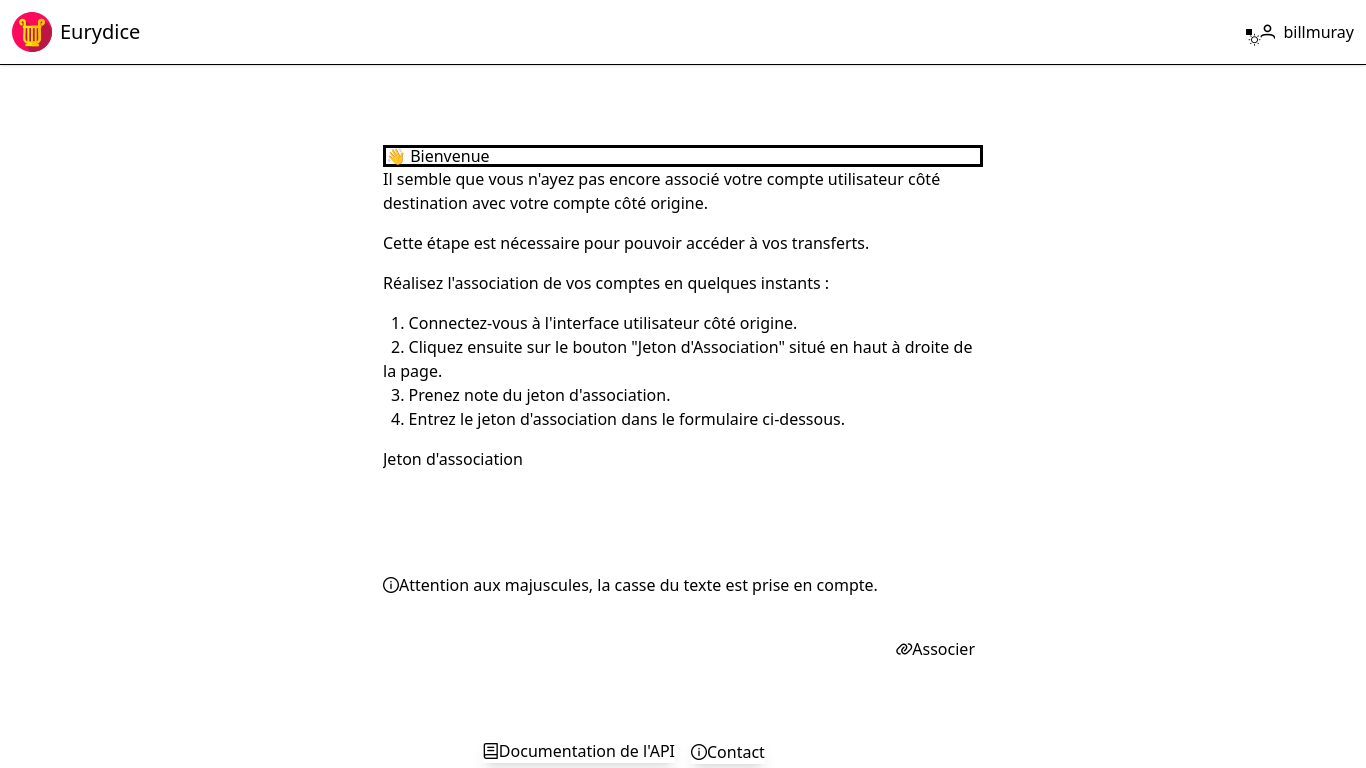
Test case: Main View Origin › Shows success message when sent token is correct but user is already connected
The image size is (1366, 768).
In the text box with test id "TokenTextArea": (683, 507) x1=383 y1=447 x2=983 y2=567, type "un 2 3 4 5 6 7 8 9 10 11 12 13 14 15 16 17 fin"
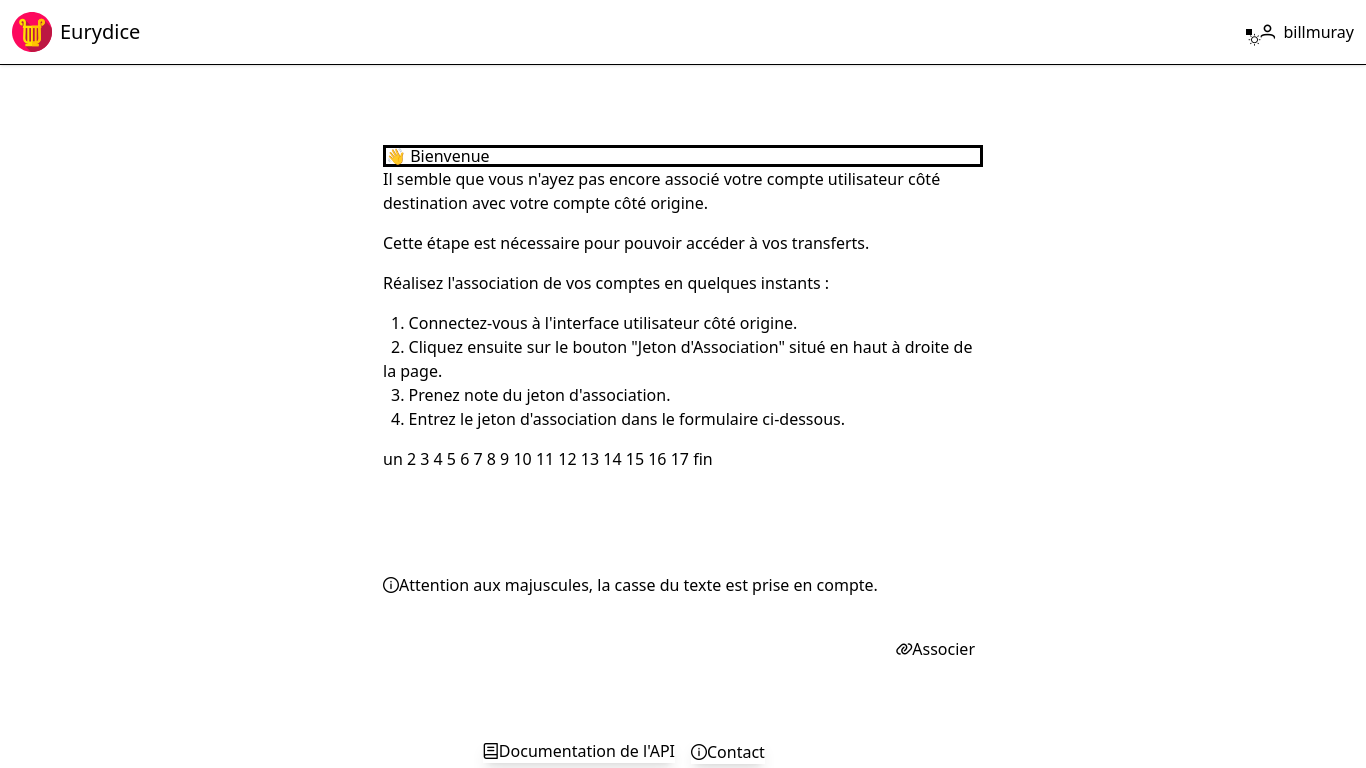
Submit the form with test id "TokenForm", box x1=383 y1=447 x2=983 y2=661
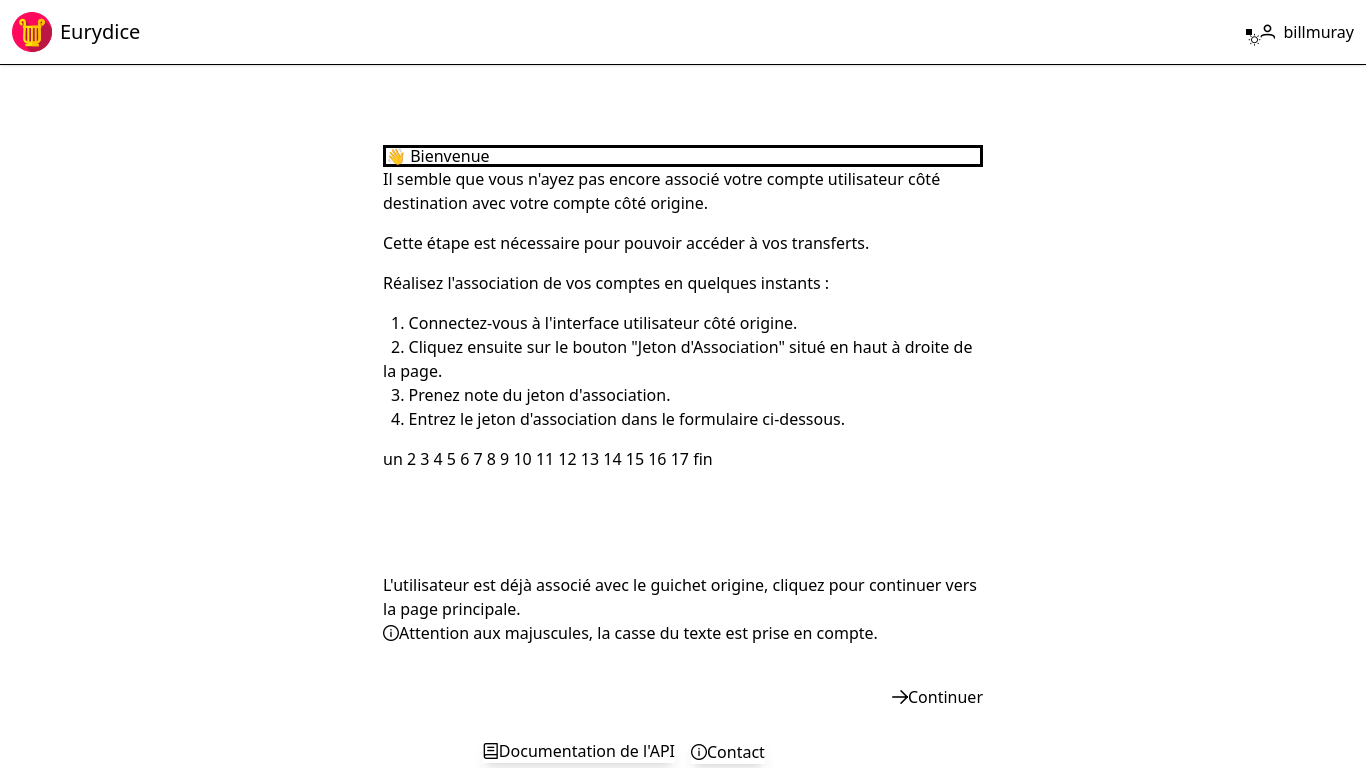
Expected: the element with test id "TokenSuccessMsg" is shown, x1=383 y1=573 x2=983 y2=621
Expected: the element with test id "TokenSuccessMsg" shows "L'utilisateur est déjà associé avec le guichet origine, cliquez pour continuer vers la page principale.", x1=383 y1=574 x2=977 y2=620
Expected: the button with test id "ContinueBtn" is shown, x1=892 y1=685 x2=983 y2=709
